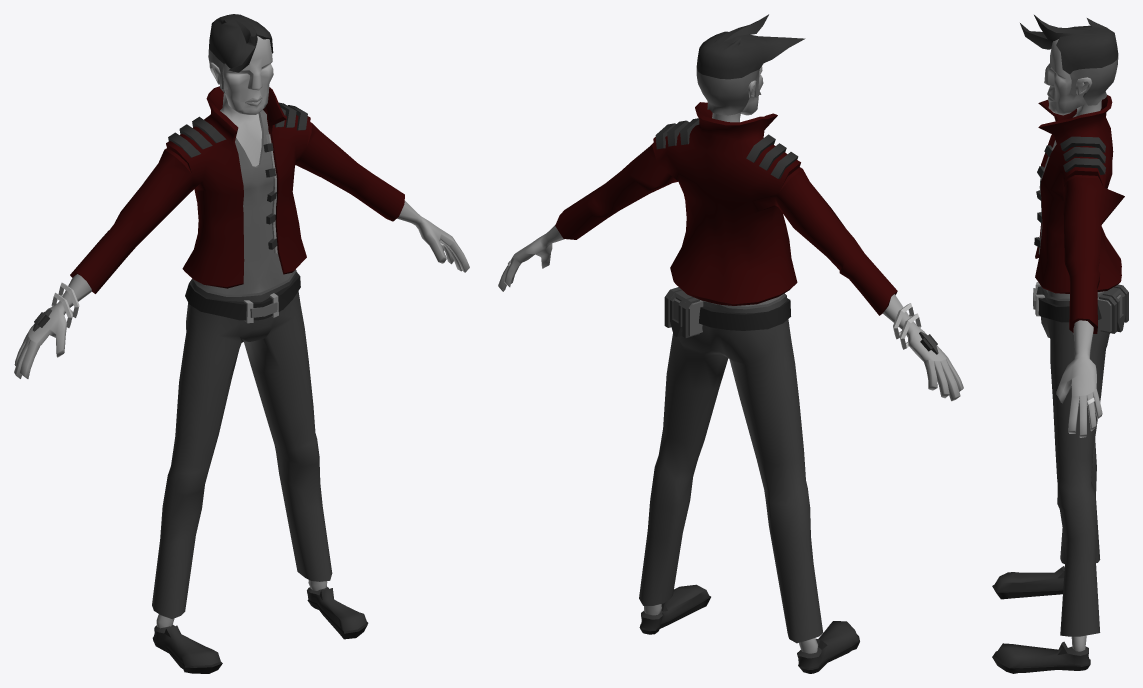
The model's file is male_test.FBX.
3 renders of one model, left to right at view 1: azimuth 30°, elevation 25°; view 2: azimuth 150°, elevation 25°; view 3: azimuth 270°, elevation 25°, orthographic. The views are drawn at different scales.
Visible parts, largest first — view 1: player_male_1, player_male_1_coat; view 2: player_male_1, player_male_1_coat; view 3: player_male_1, player_male_1_coat.
Boxes of the visible parts, <box> form: player_male_1: <box>14,14,469,673</box>; player_male_1_coat: <box>70,86,404,293</box>; player_male_1: <box>498,14,963,673</box>; player_male_1_coat: <box>555,102,897,315</box>; player_male_1: <box>992,15,1128,673</box>; player_male_1_coat: <box>1035,95,1124,333</box>.
Bounding box in the file's own units: 64.95 × 84.05 × 17.13.
